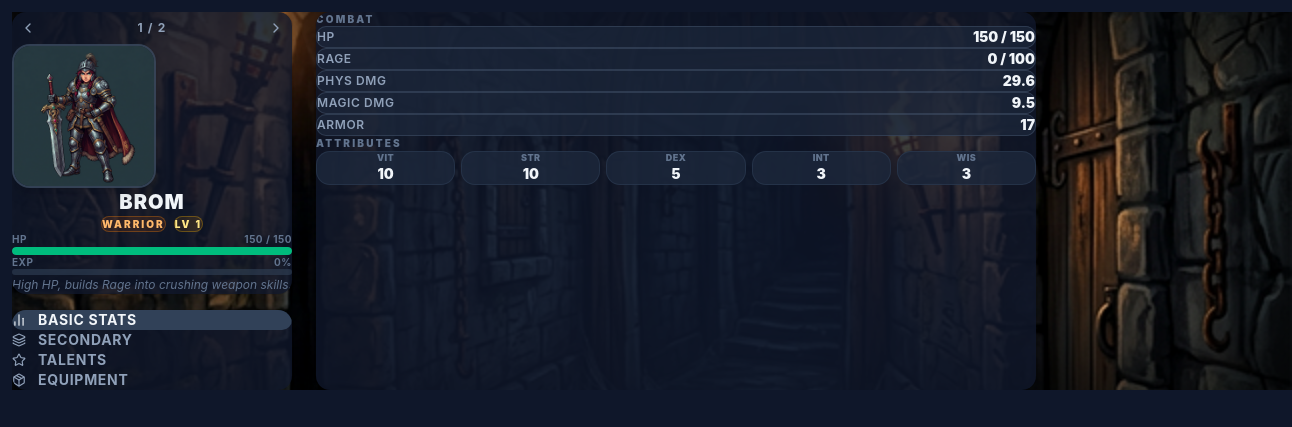
Test case: PartyView › paginates between heroes when there are multiple party members
This screenshot has width=1292, height=427.
Expected: the text "1 / 2" is shown, [138, 20, 167, 36]
Expected: the heading "Brom" is shown, [119, 190, 185, 214]
What coordinates should you click on to do the following:
click the button named "next hero"
I would click on:
 (276, 28)
Its box is [260, 12, 292, 44].
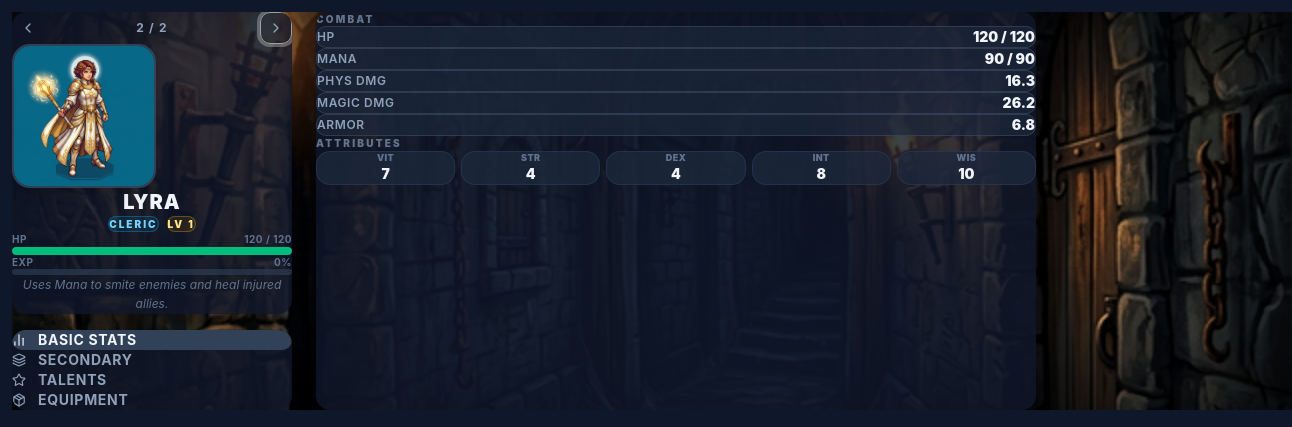
Result: the text "2 / 2" is shown at [136, 20, 168, 36]
What coordinates should you click on to do the following:
click the button named "previous hero"
I would click on:
 (28, 28)
Its box is [12, 12, 44, 44].
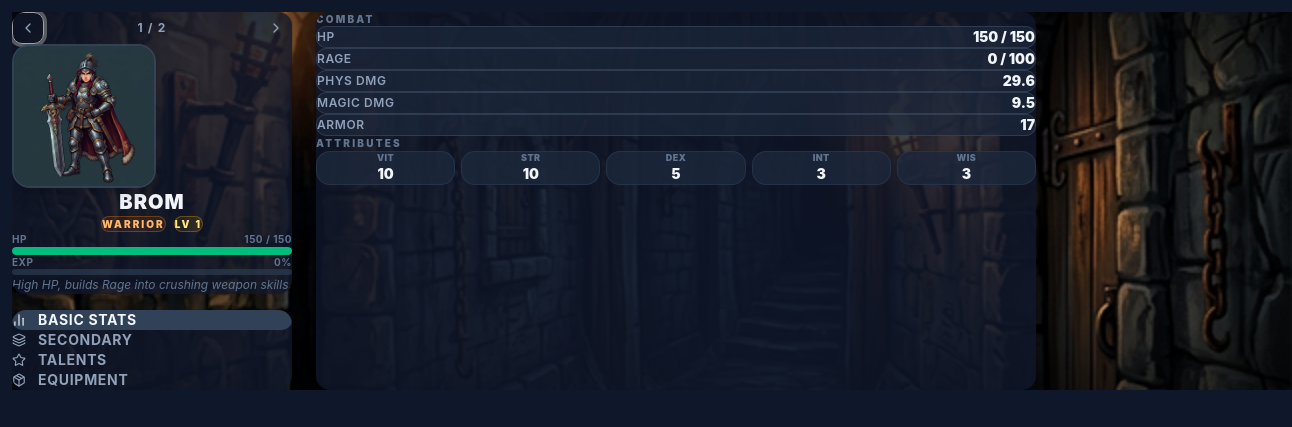
Result: the text "1 / 2" is shown at [138, 20, 167, 36]
Result: the heading "Brom" is shown at [119, 190, 185, 214]
